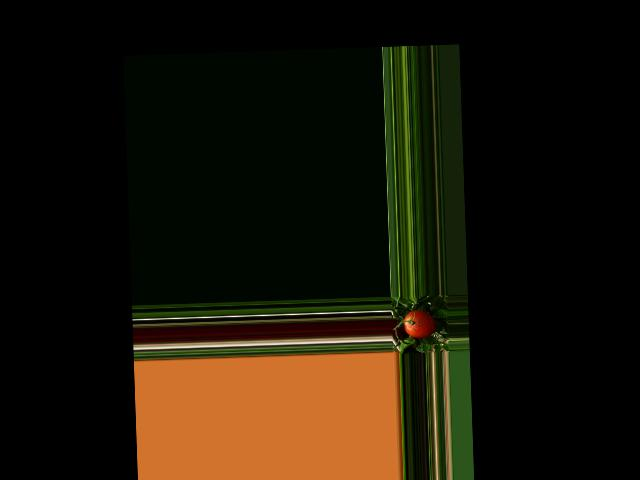tomato: (403, 309, 435, 338)
